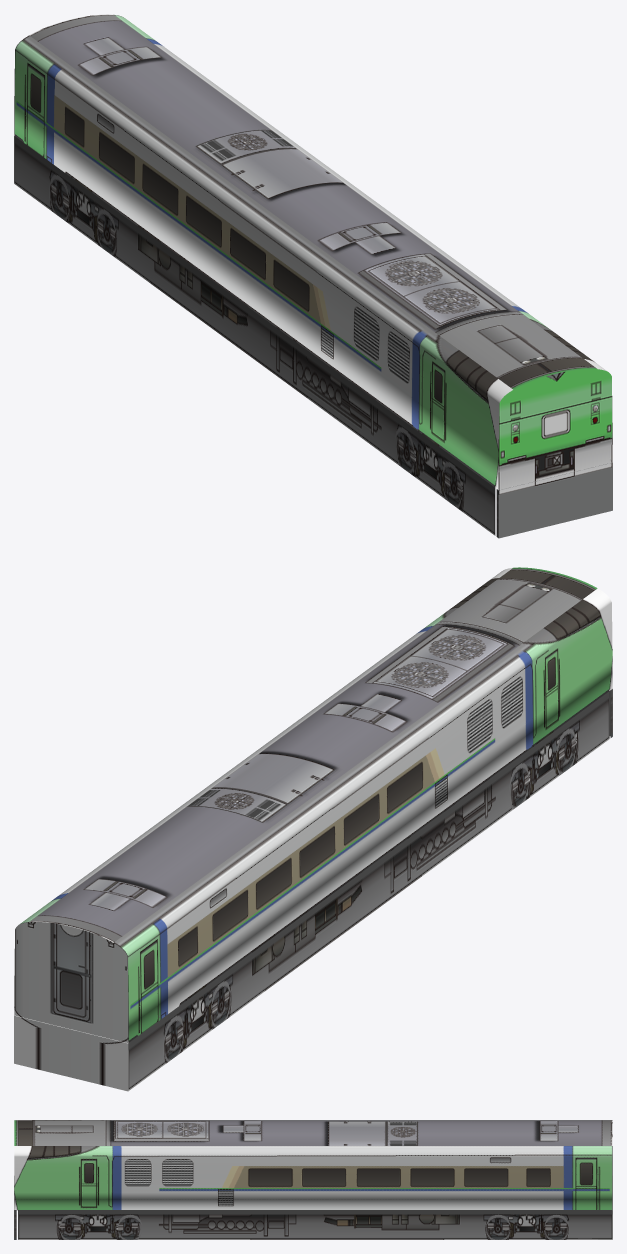
File: car3.glb
3 views of the same model, one above another, from view 1: azimuth 30°, elevation 25°; view 2: azimuth 150°, elevation 25°; view 3: azimuth 270°, elevation 25° (orthographic). The views are drawn at different scales.
Visible parts, largest first — view 1: jr-hokkaido-kiha183-car3; view 2: jr-hokkaido-kiha183-car3; view 3: jr-hokkaido-kiha183-car3.
Part boxes in pixels (<box>): jr-hokkaido-kiha183-car3: <box>14,14,612,538</box>; jr-hokkaido-kiha183-car3: <box>14,567,612,1091</box>; jr-hokkaido-kiha183-car3: <box>14,1120,612,1239</box>.
Size of the model in its own units: 2.9 by 3.65 by 21.33.
Materials: 9 (8 with a texture image).
